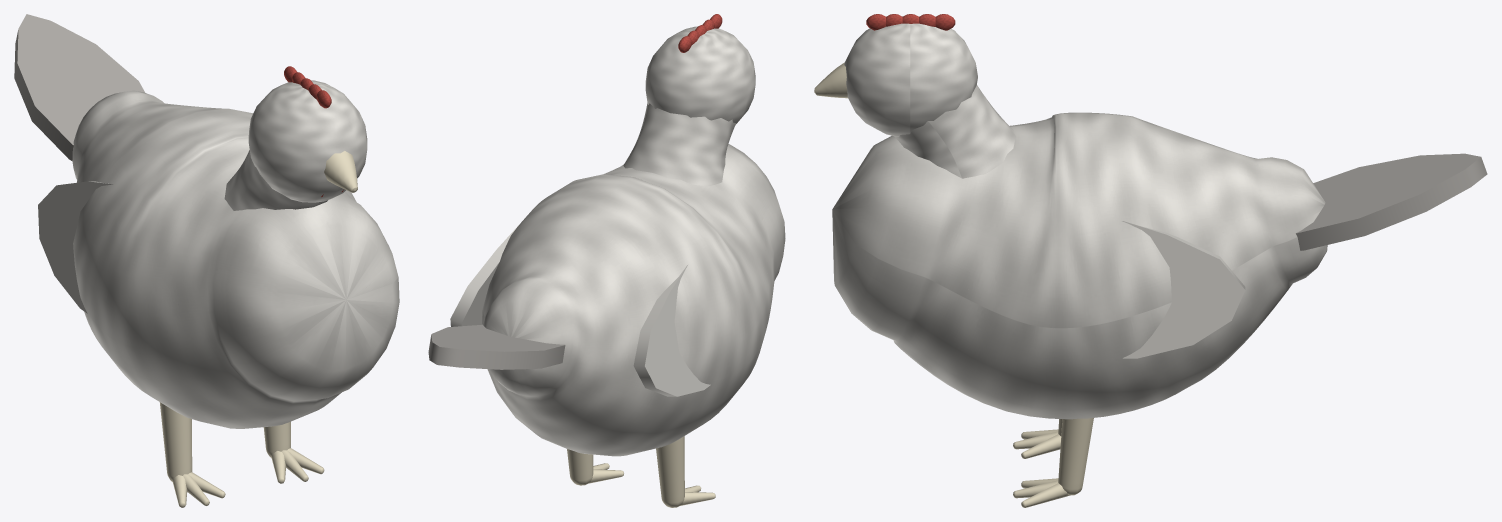
File: chicken-white.glb
3 views of the same model, side by side, from view 1: azimuth 30°, elevation 25°; view 2: azimuth 150°, elevation 25°; view 3: azimuth 270°, elevation 25° (orthographic). The views are drawn at different scales.
Visible parts, largest first — view 1: hen-white; view 2: hen-white; view 3: hen-white.
Boxes of the visible parts, box(x1,y1,x2,y2) form: hen-white: box(14, 14, 399, 507); hen-white: box(428, 14, 785, 507); hen-white: box(814, 14, 1487, 507).
Size of the model in its own units: 0.2732 by 0.4725 by 0.6279.
Materials: 5 (4 with a texture image).
